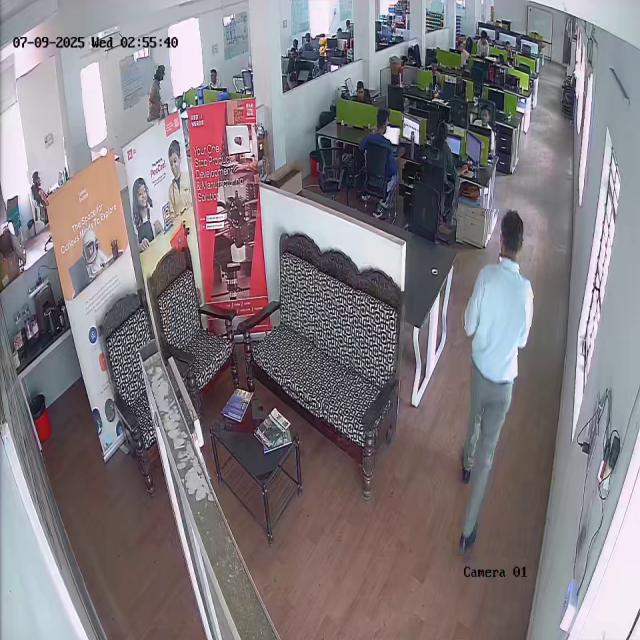person: (454, 208, 535, 558), (357, 108, 401, 218), (420, 120, 453, 234), (138, 62, 170, 124), (28, 168, 50, 208)
